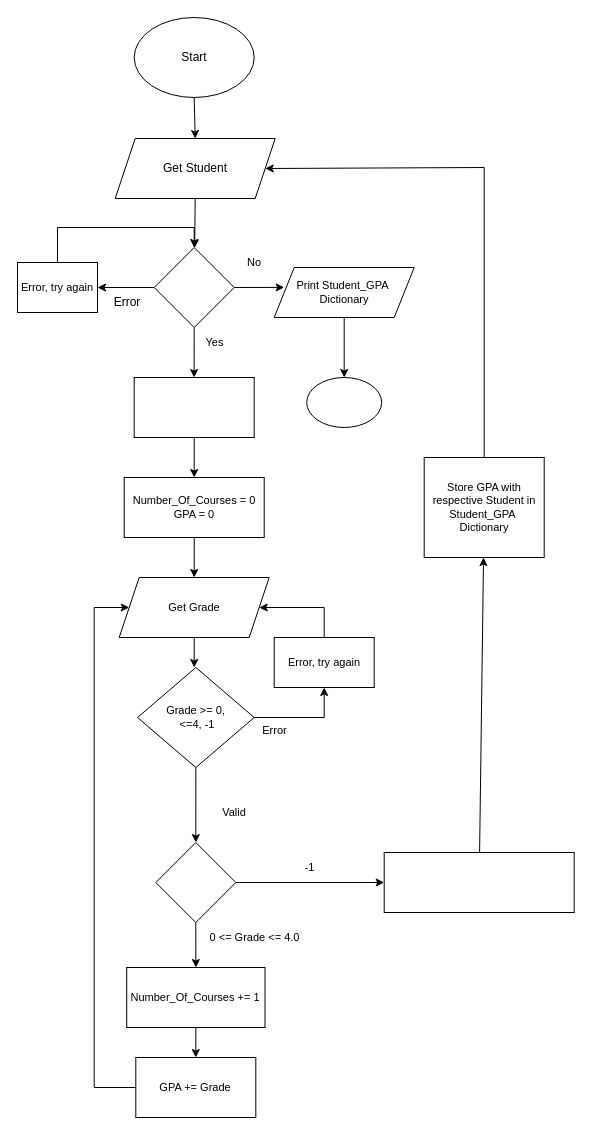
This 592x1135 diagram has some shape labels left out. Here are the shapes that lost their labels. From the top down, the box of each, then its label:
(153, 246, 234, 328): Yes or No
(133, 376, 254, 438): Store Student in Student_GPA Dictionary
(306, 376, 382, 428): End
(155, 842, 236, 922): Grade
(383, 852, 574, 912): GPA /= Number_Of_Courses
